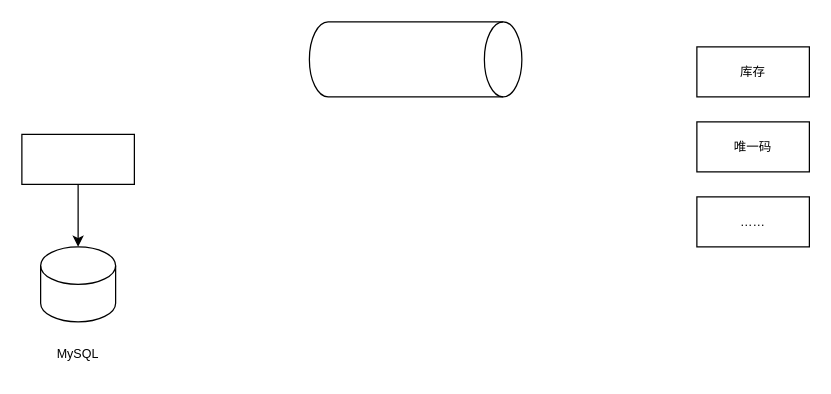
Image size: 831x394. Some labels were removed from this diagram. Each missing label, with the centre of its shape:
Kafka: the point at 415,59
商品: the point at 77,158
